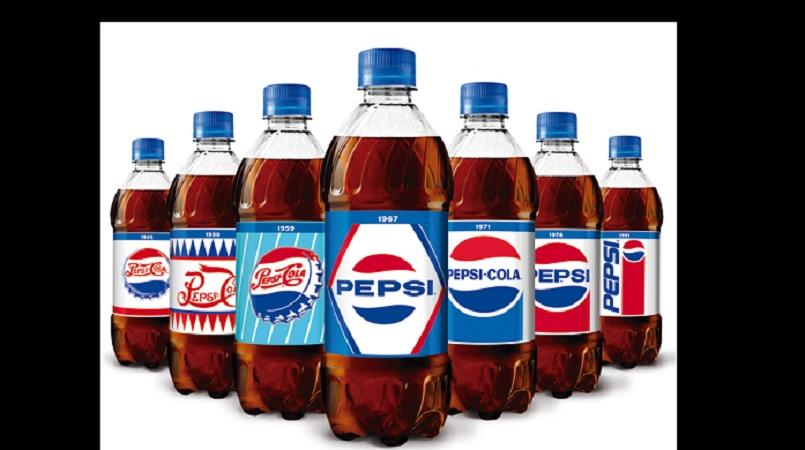pepsi: (349, 253, 418, 325), (623, 239, 645, 260)
